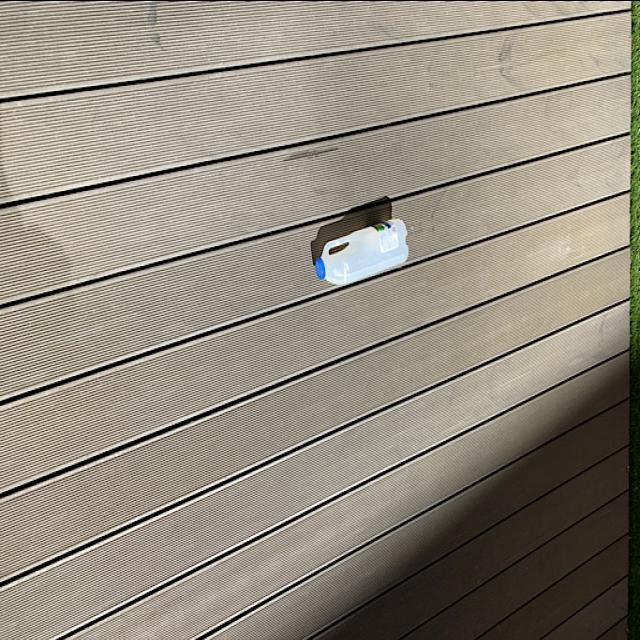litter: (312, 212, 414, 288)
